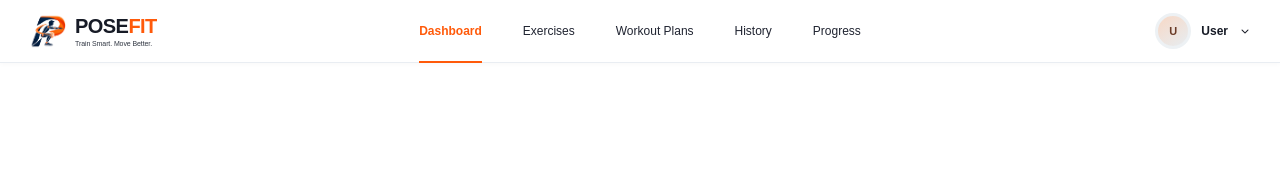
Test: opens the User profile from the existing account dropdown
Click the button with aria-label "Account menu" at (1203,31), box [1149, 10, 1256, 52]
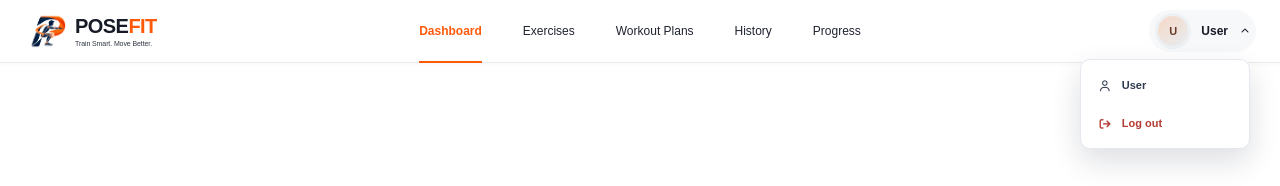
Click the menu item "User" at (1122,85), box [1098, 79, 1146, 91]
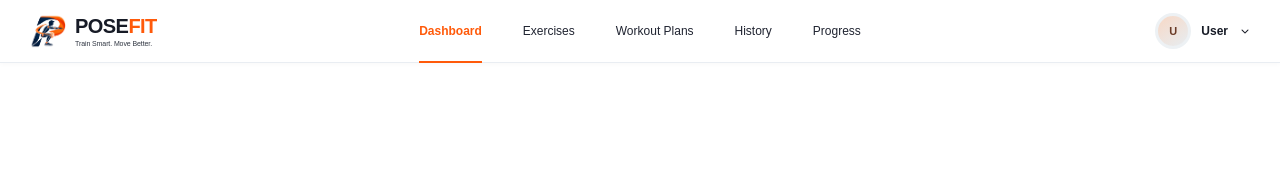
Result: the menu is gone
